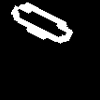chain: (11, 3, 72, 42)
